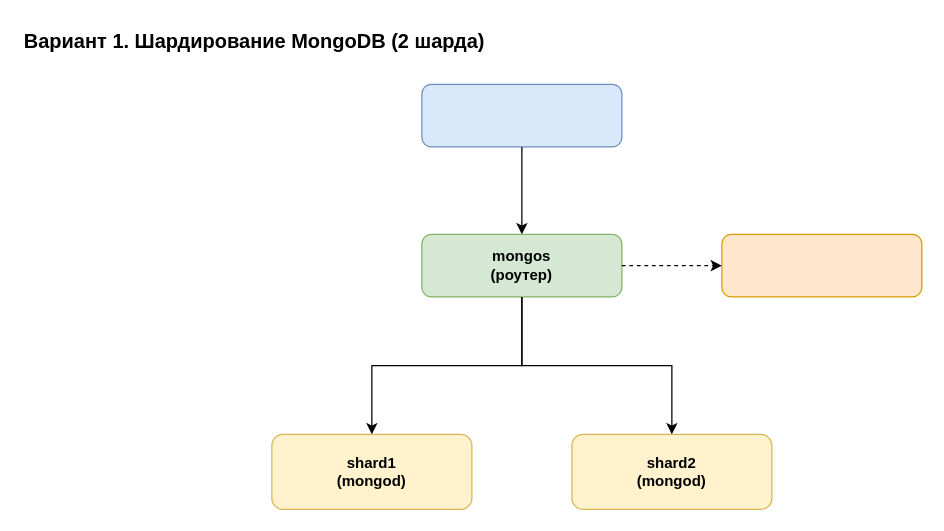
The diagram is 944 pixels wide and 531 high, and some of its shapes have lost their labels. The centre of each missing label's shape, as x and y in pixels:
configSrv (config server): [821,265]
pymongo-api (приложение): [521,115]
